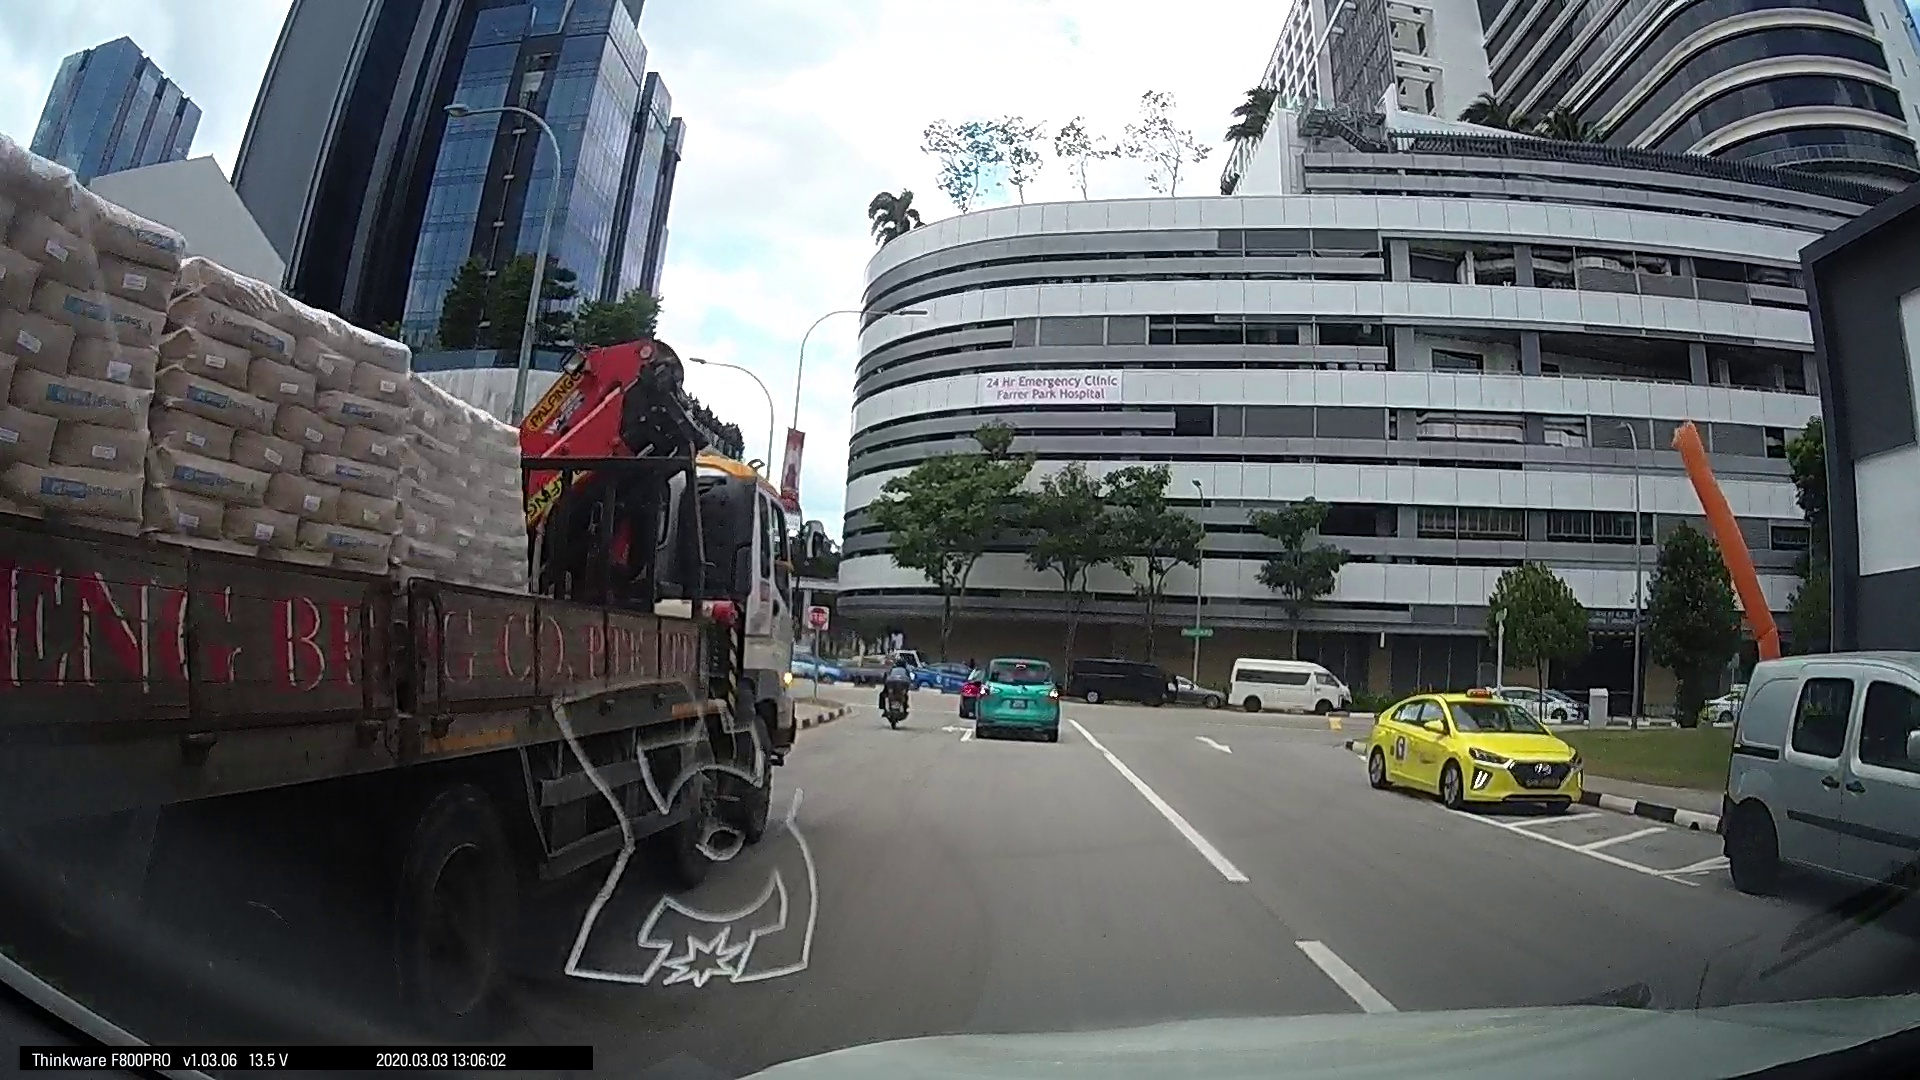Heavy Vehicle: (18, 287, 800, 990)
Light Vehicle: (1712, 646, 1917, 914), (1356, 684, 1592, 819), (1217, 651, 1352, 717), (967, 653, 1059, 740), (1065, 647, 1183, 703)
